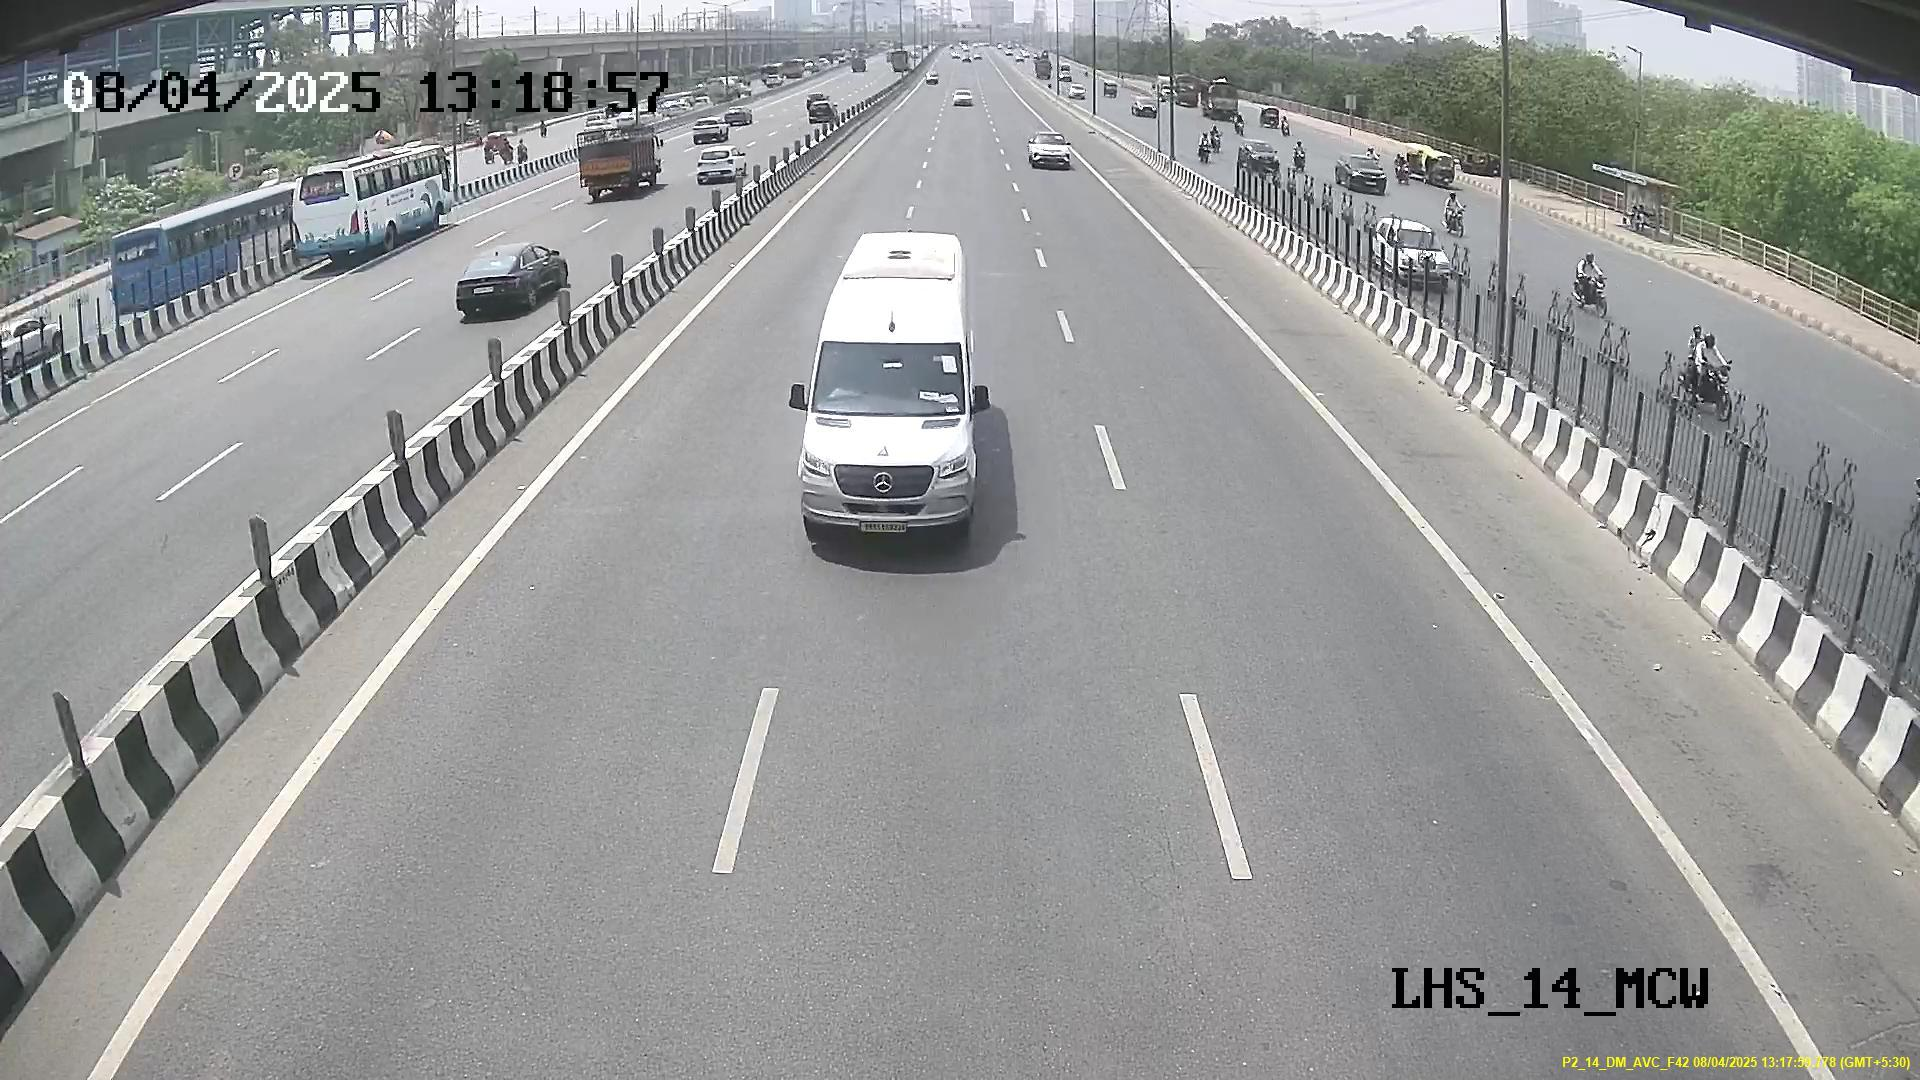lcv: (791, 305, 986, 547)
